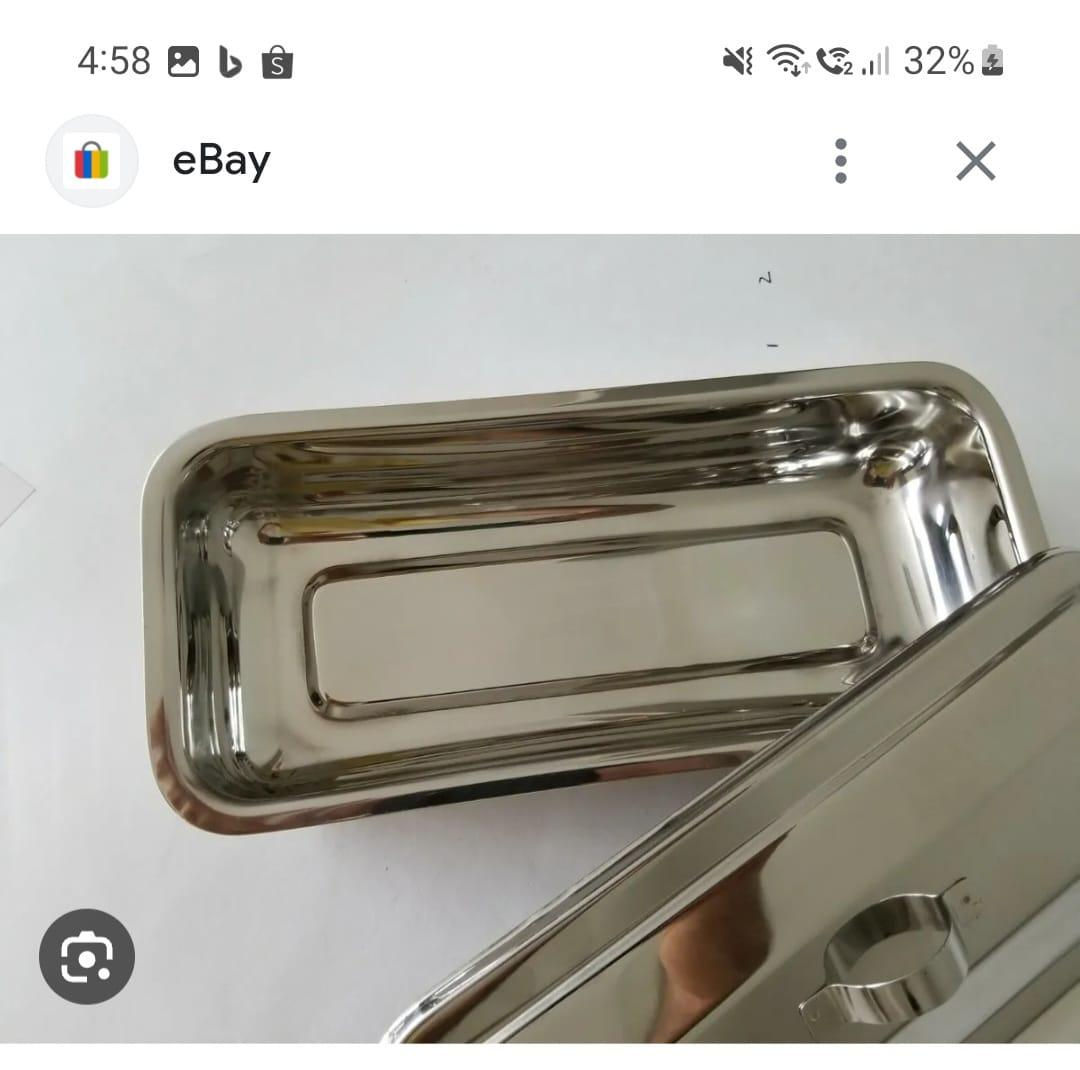Catheter Tray: (140, 347, 1040, 842)
